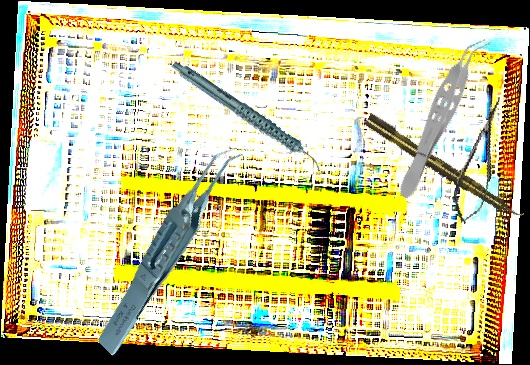Handpiece: (170, 35, 325, 198), (363, 111, 526, 226)
Micro Scissor: (446, 93, 514, 228)
Tissue Forceps: (61, 141, 283, 358), (390, 30, 493, 204)
